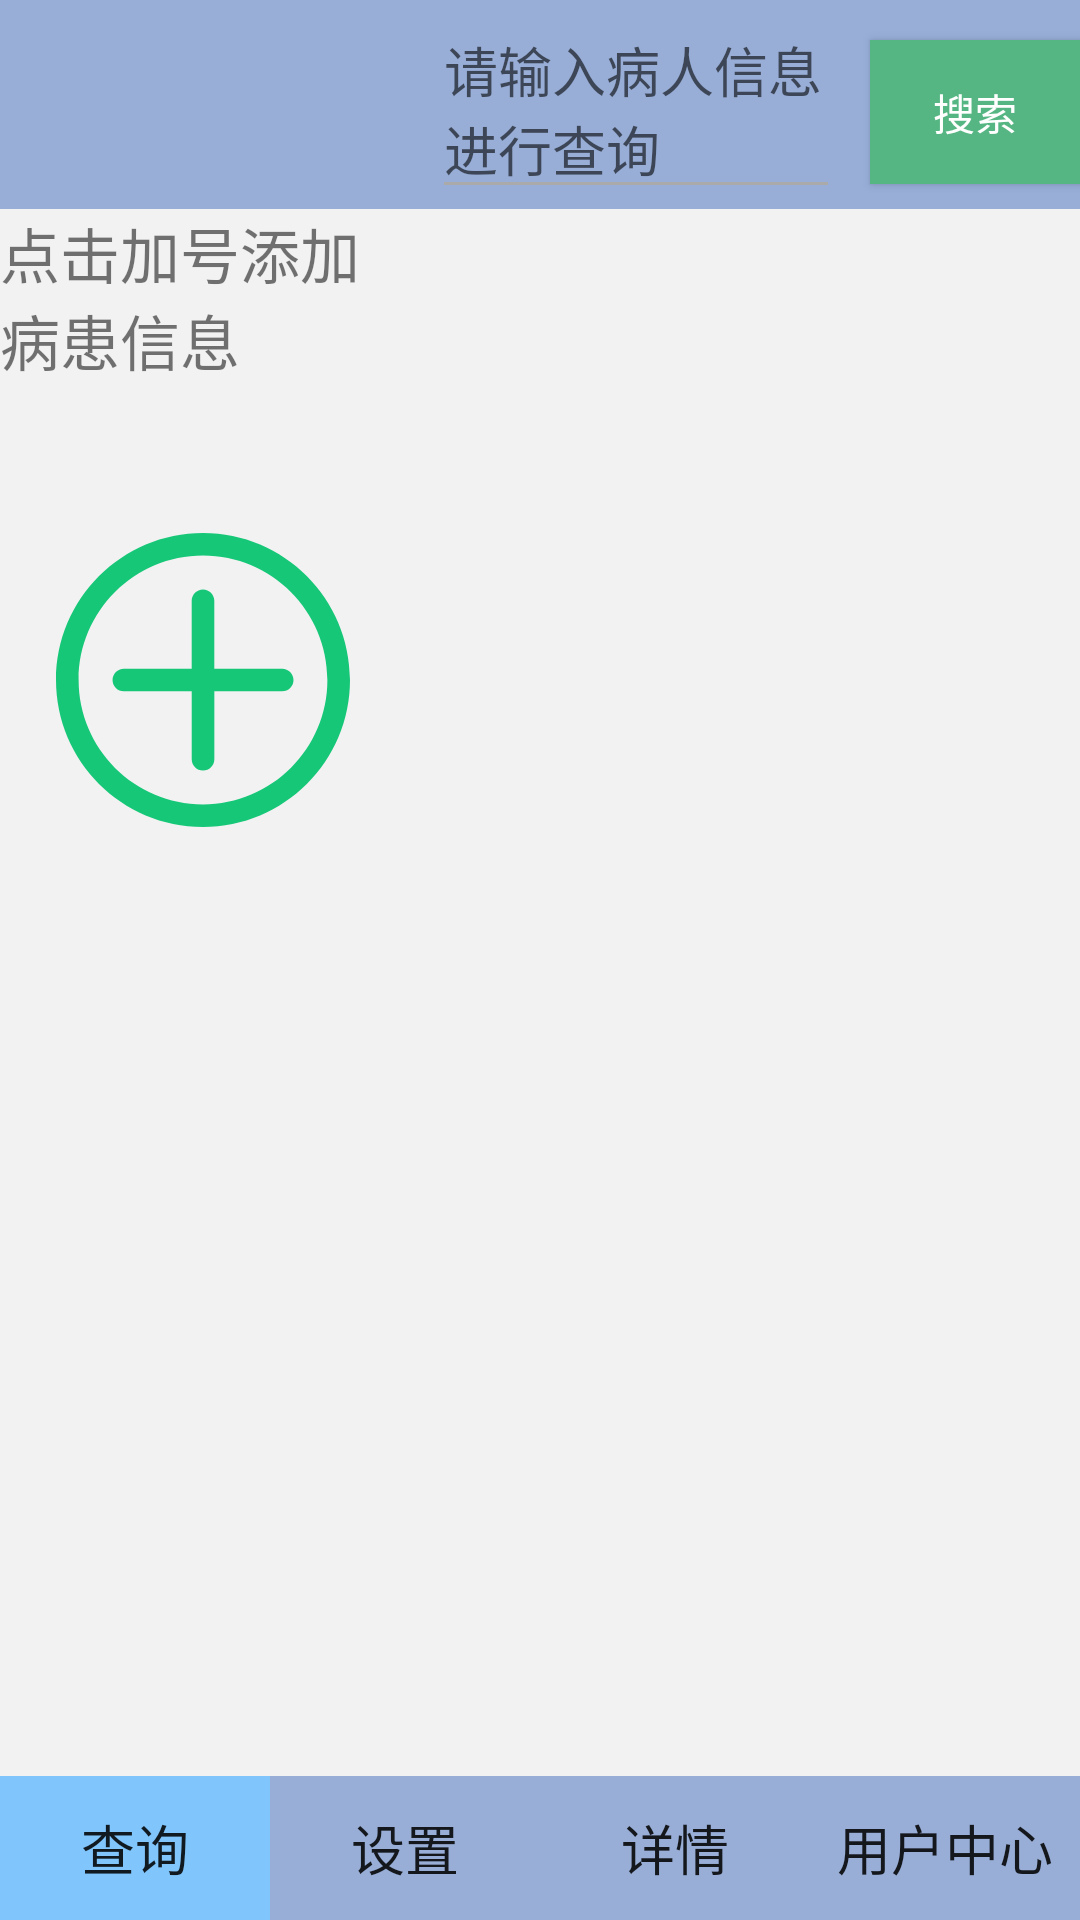

Locate icon controls on the screen. Image size 1080px x 1920px, boxes as (x1, y1, x2, y2).
add: (56, 533, 350, 827)
